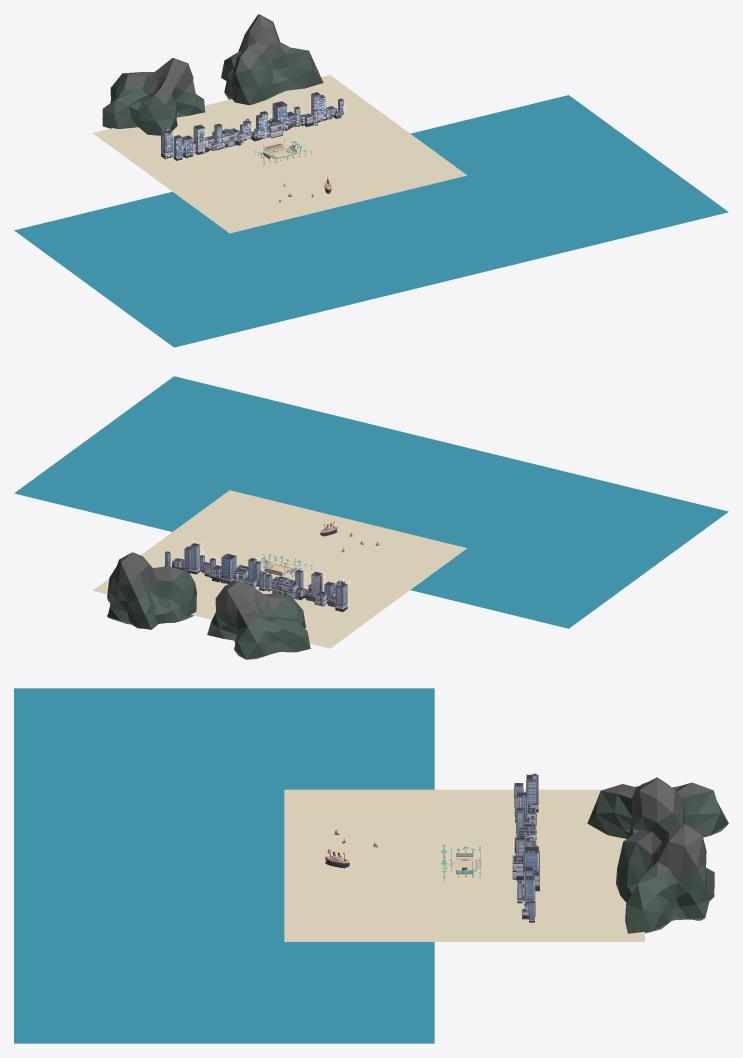
File: lagoa.glb
3 views of the same model, one above another, from view 1: azimuth 30°, elevation 25°; view 2: azimuth 150°, elevation 25°; view 3: azimuth 270°, elevation 25° (orthographic). The views are drawn at different scales.
Parts seen in each view (by area): view 1: WATER, BEACH_SAND, MOUNTAIN.001, MOUNTAIN; view 2: WATER, BEACH_SAND, MOUNTAIN, MOUNTAIN.001; view 3: WATER, BEACH_SAND, MOUNTAIN.001, MOUNTAIN.
Part boxes in pixels (bbox=[...]): WATER: bbox=[14, 95, 728, 347]; BEACH_SAND: bbox=[93, 75, 467, 233]; MOUNTAIN.001: bbox=[221, 14, 323, 105]; MOUNTAIN: bbox=[102, 58, 205, 135]; WATER: bbox=[14, 376, 728, 628]; BEACH_SAND: bbox=[93, 490, 466, 648]; MOUNTAIN: bbox=[207, 580, 310, 659]; MOUNTAIN.001: bbox=[107, 552, 196, 629]; WATER: bbox=[14, 688, 434, 1043]; BEACH_SAND: bbox=[284, 789, 644, 941]; MOUNTAIN.001: bbox=[616, 824, 714, 933]; MOUNTAIN: bbox=[587, 777, 728, 841].
Bounding box in the file's own units: 1400 × 161 × 1190.
Materials: 54 (23 with a texture image).
